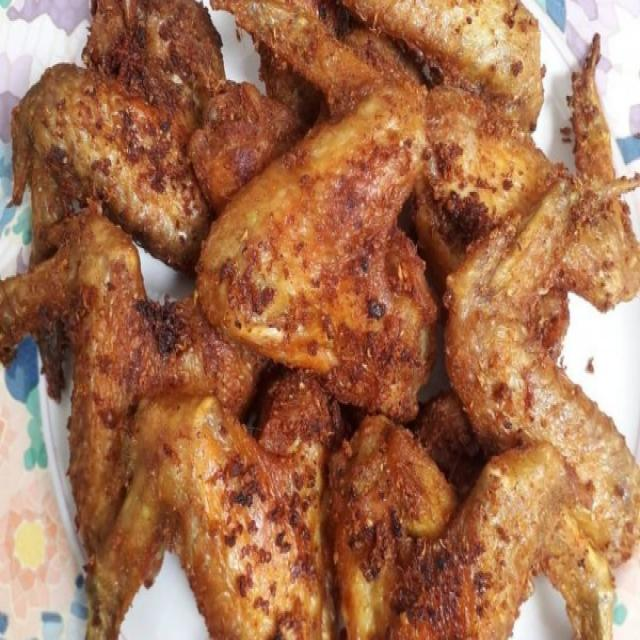Frango: (147, 29, 460, 418), (414, 162, 639, 570), (76, 370, 344, 630)
